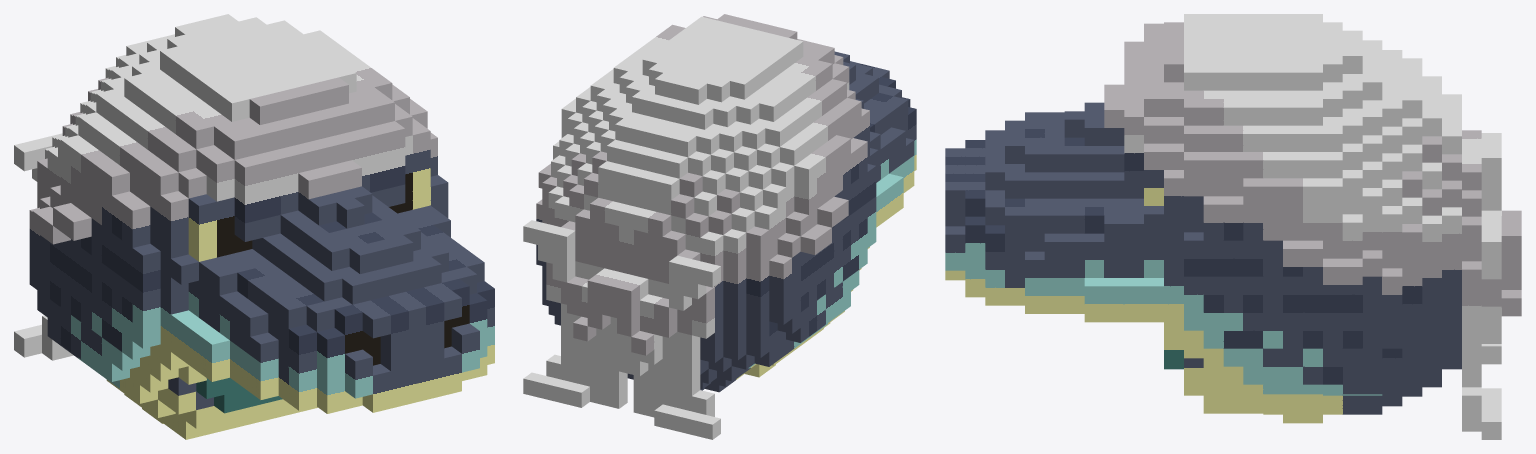
Rendered from blue durag_skydiving goggles.gltf.
The picture shows the model from 3 angles, left to right: view 1: azimuth 30°, elevation 25°; view 2: azimuth 150°, elevation 25°; view 3: azimuth 270°, elevation 25°; orthographic projection. The views are drawn at different scales.
Visible parts, largest first — view 1: C18_H_Durag_Skydiving_VRGg-Mesh; view 2: C18_H_Durag_Skydiving_VRGg-Mesh; view 3: C18_H_Durag_Skydiving_VRGg-Mesh.
Part boxes in pixels (x1,y1,x2,y2): C18_H_Durag_Skydiving_VRGg-Mesh: (14, 14, 494, 439); C18_H_Durag_Skydiving_VRGg-Mesh: (523, 14, 916, 439); C18_H_Durag_Skydiving_VRGg-Mesh: (945, 14, 1521, 439).
Bounding box in the file's own units: 19 × 19 × 29.
1 material, 1 textured.
